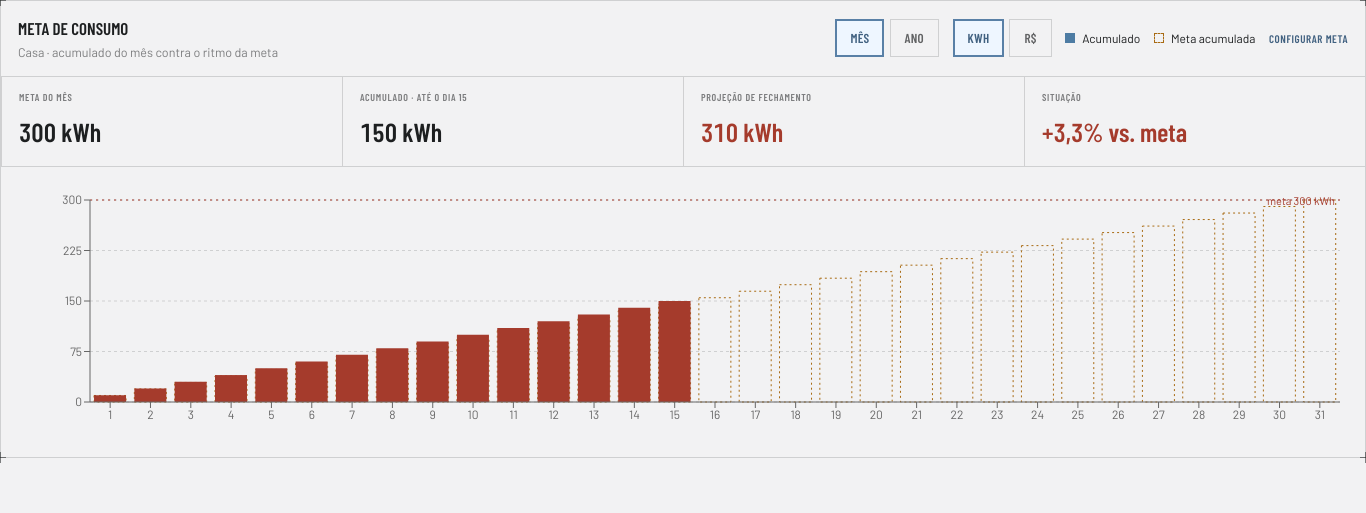
GoalSection — Mês em R$ › soma o custo diário e avisa que ele não traz as cobranças fixas
Expected: the text "Acumulado · até o dia 15" is shown, [360,91,467,103]
Click the button with test id "goal-unit-BRL". click: coordinates (1031, 38)
box: [1010,19,1052,57]
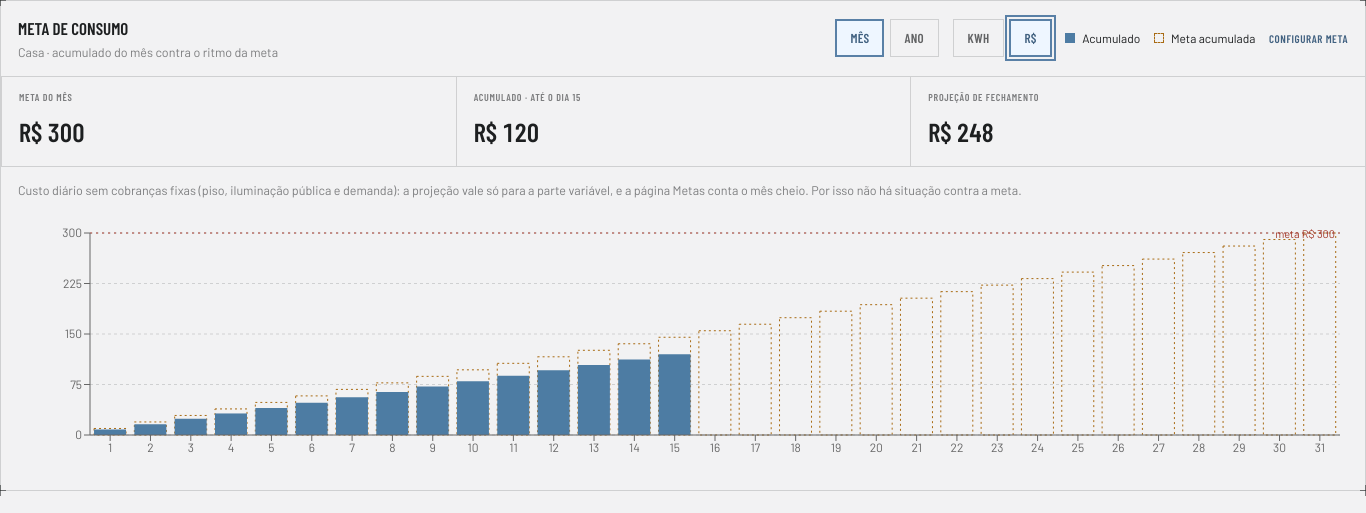
Expected: the text "R$ 120" is shown, [474,116,539,148]
Expected: the text "R$ 248" is shown, [928,116,994,148]
Expected: the text with test id "goal-note" shows "sem cobranças fixas", [18,182,1022,198]
